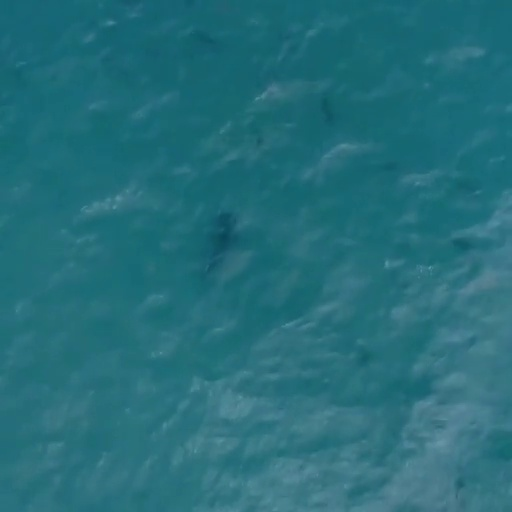shark: (201, 209, 242, 279)
